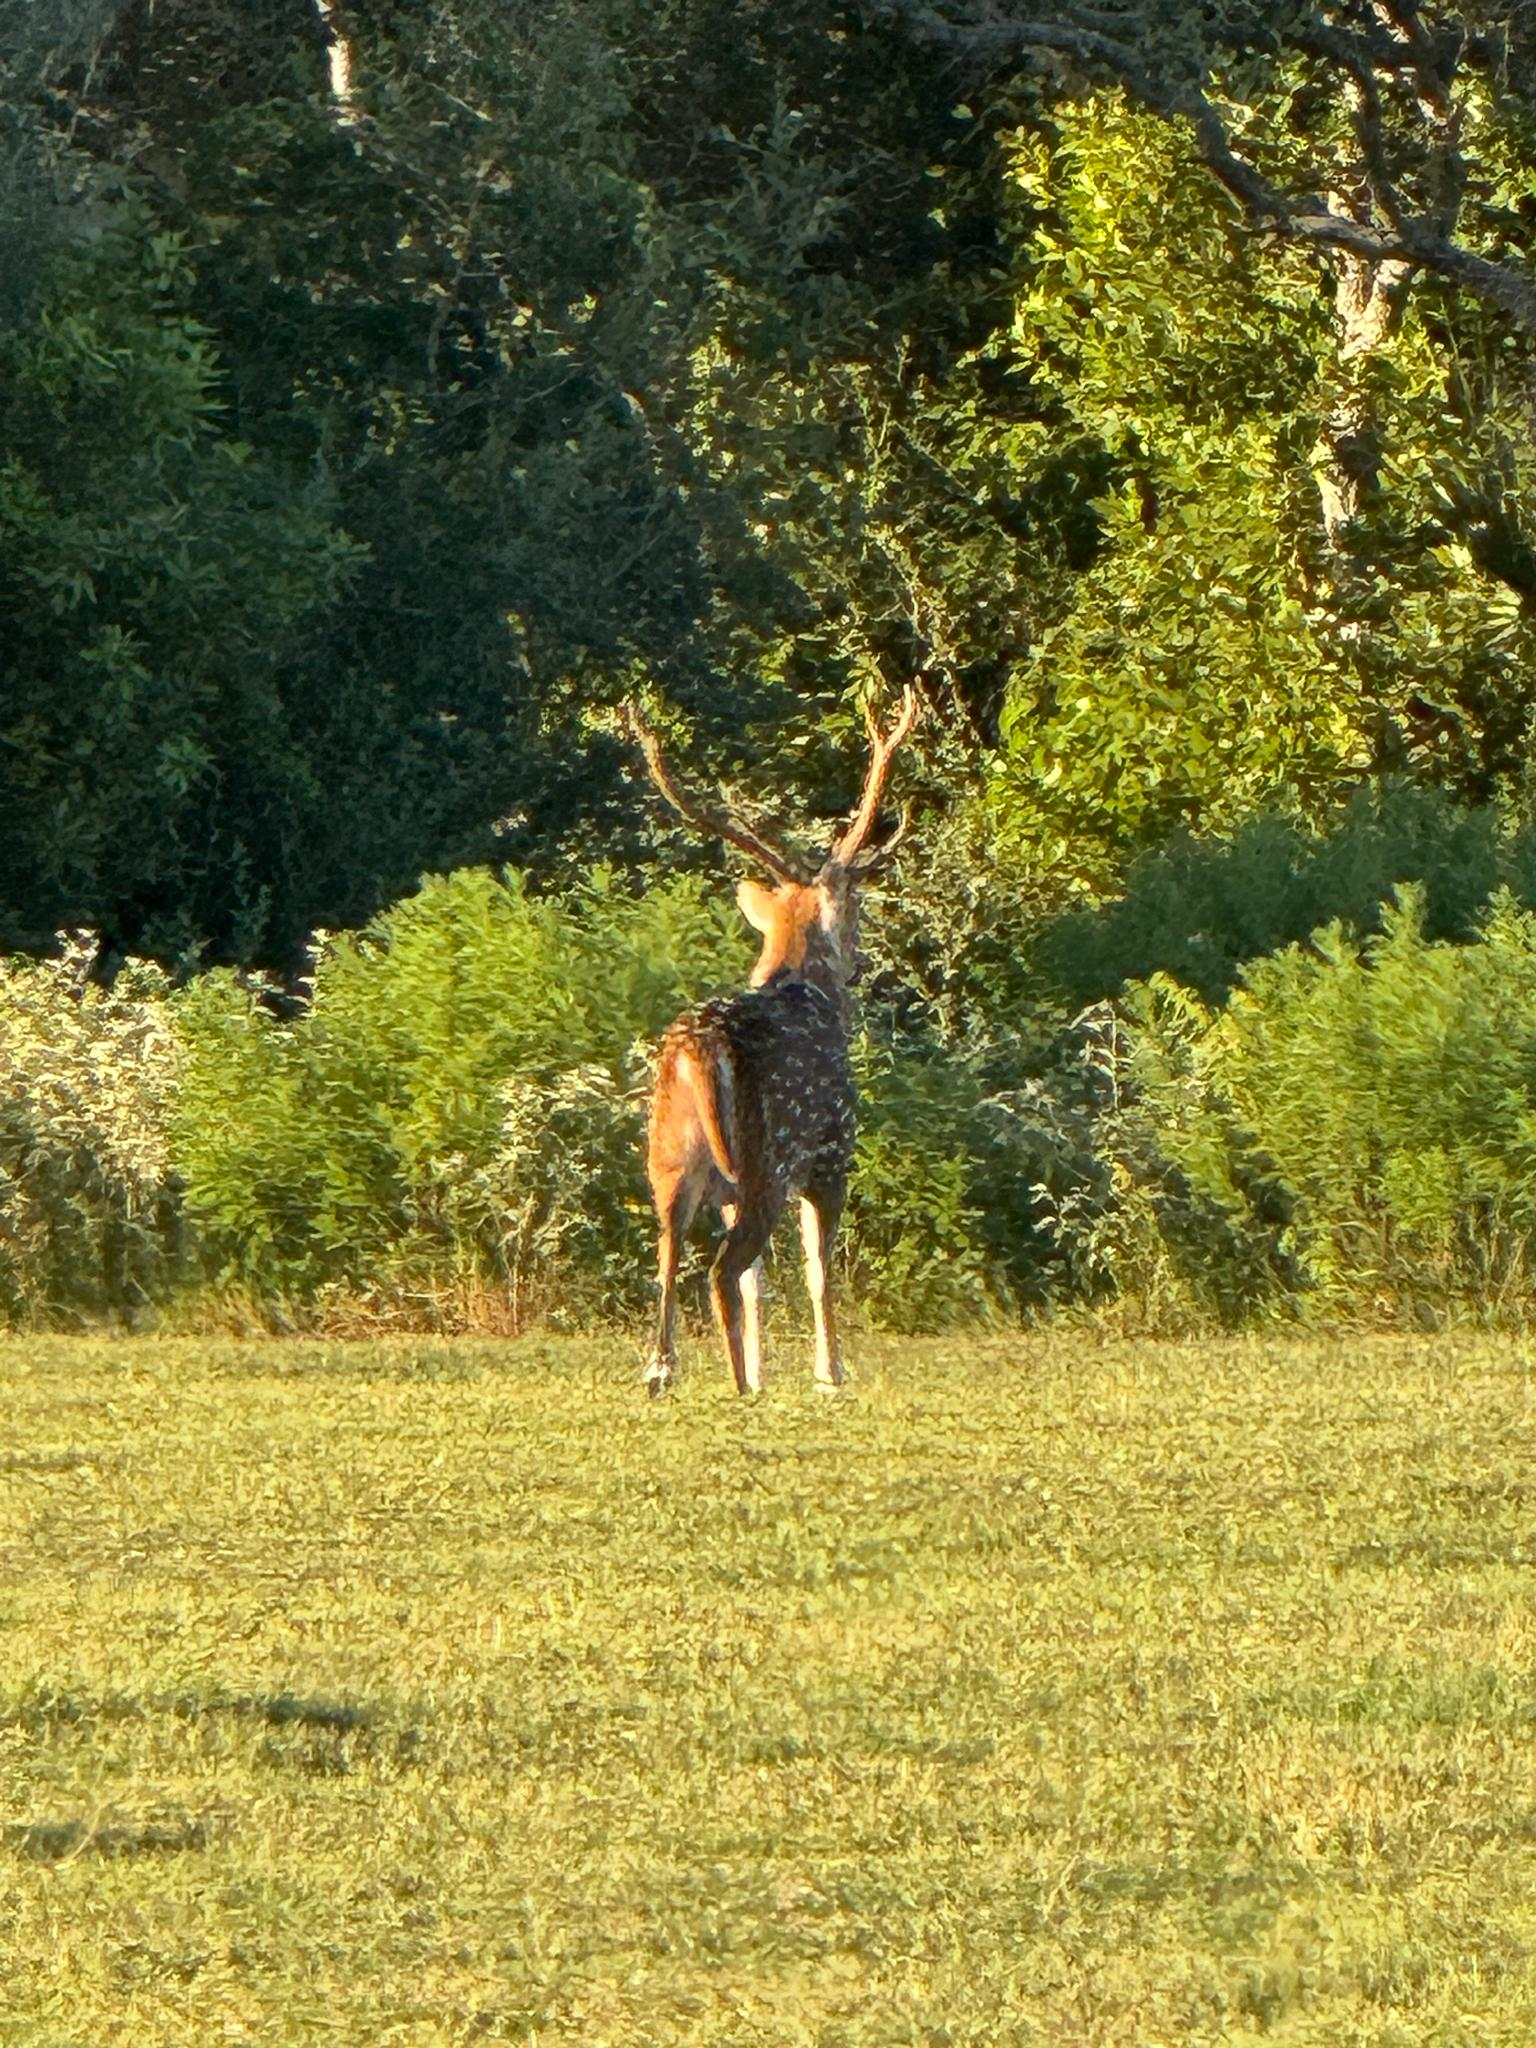Deer: (624, 690, 916, 1393)
